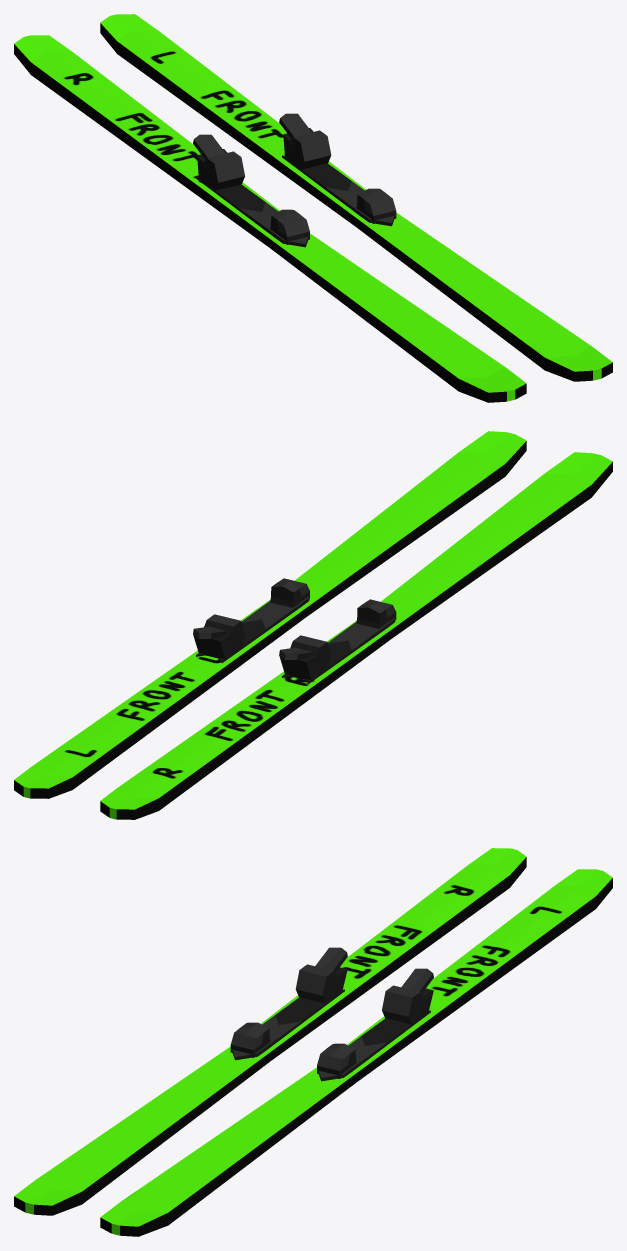
The model's file is SkiModel.fbx.
The picture shows the model from 3 angles, top to bottom: view 1: azimuth 30°, elevation 25°; view 2: azimuth 150°, elevation 25°; view 3: azimuth 330°, elevation 25°; orthographic projection.
Parts seen in each view (by area): view 1: SkiR, SkiL; view 2: SkiL, SkiR; view 3: SkiL, SkiR.
Part boxes in pixels (box(x1,y1,x2,y2)): SkiR: box(100, 14, 612, 381); SkiL: box(14, 35, 526, 402); SkiL: box(100, 452, 612, 819); SkiR: box(14, 431, 526, 798); SkiL: box(14, 848, 526, 1215); SkiR: box(100, 869, 612, 1236).
Size of the model in its own units: 56.36 by 18.08 by 355.
Materials: 1 (1 with a texture image).
